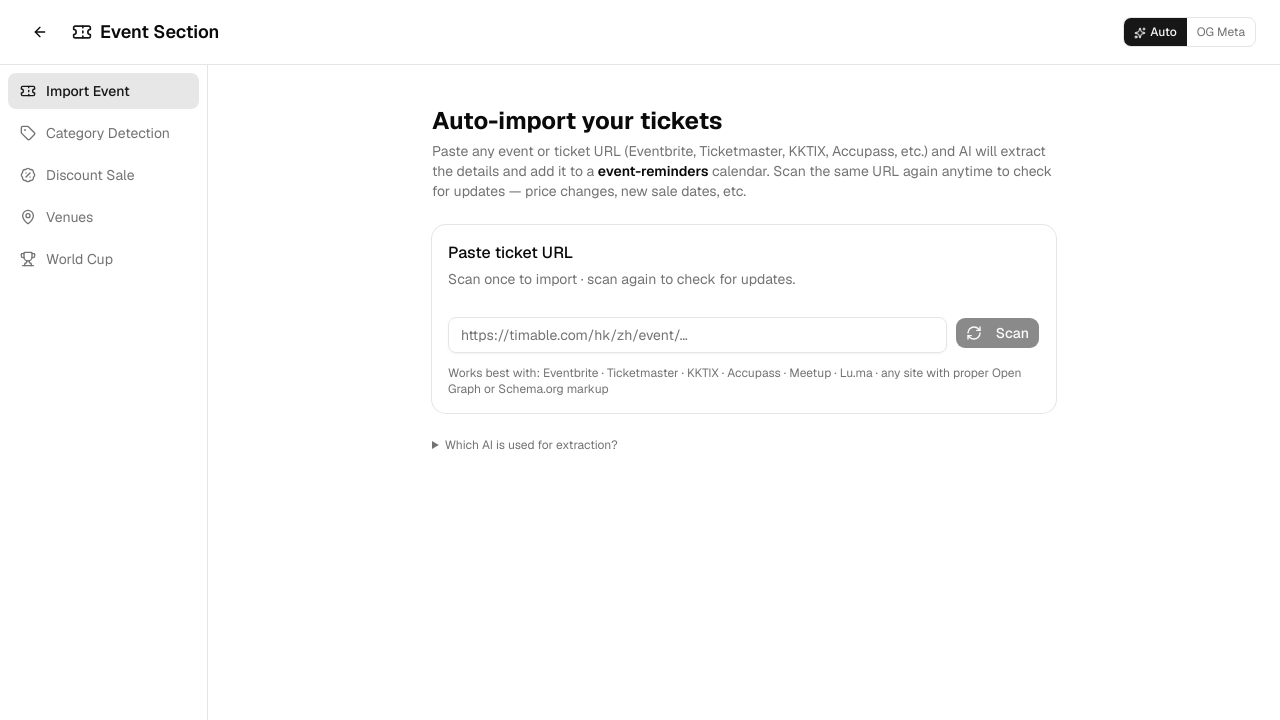
it: TicketSection — venue seat-map hint › shows a seat map badge for a venue that matches the built-in registry (Kai Tak Stadium)
The width and height of the screenshot is (1280, 720).
Type "https://example.com/event/1" into the field with placeholder "https://timable.com/hk/zh/event/…" at (697,335), box x1=448 y1=317 x2=947 y2=353
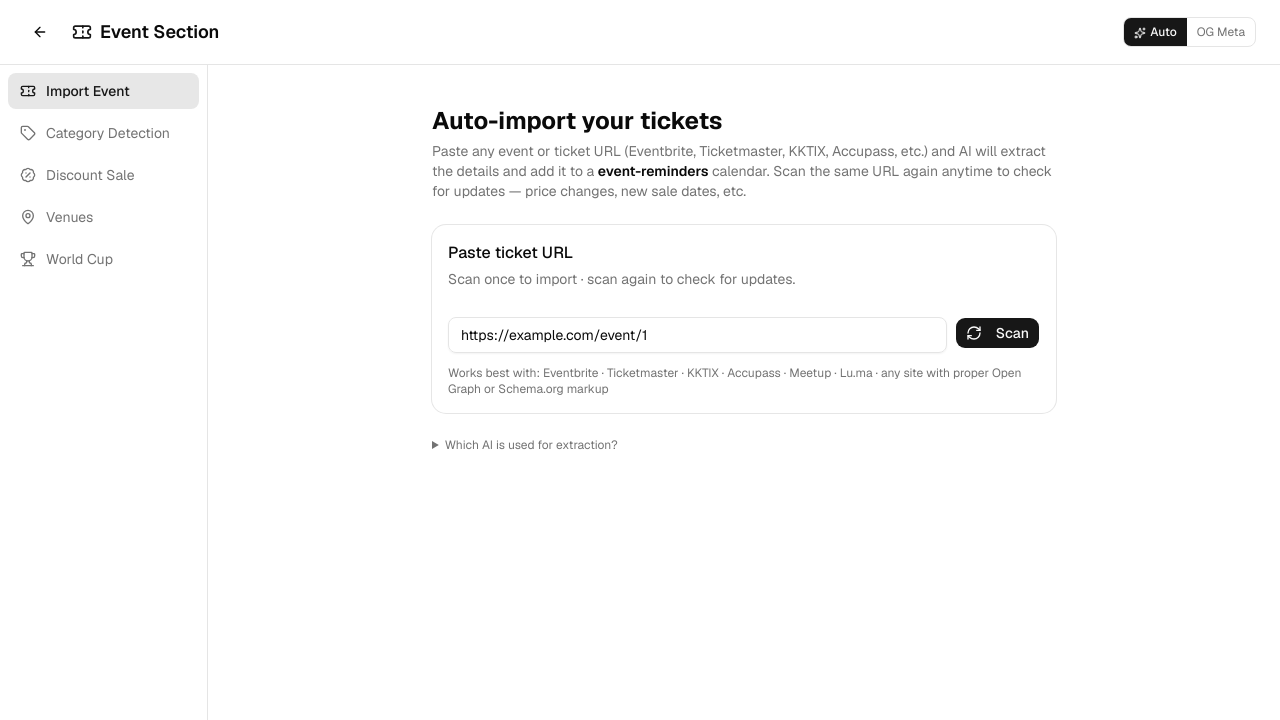
Click the button "Scan" at (997,333), box x1=955 y1=317 x2=1040 y2=349
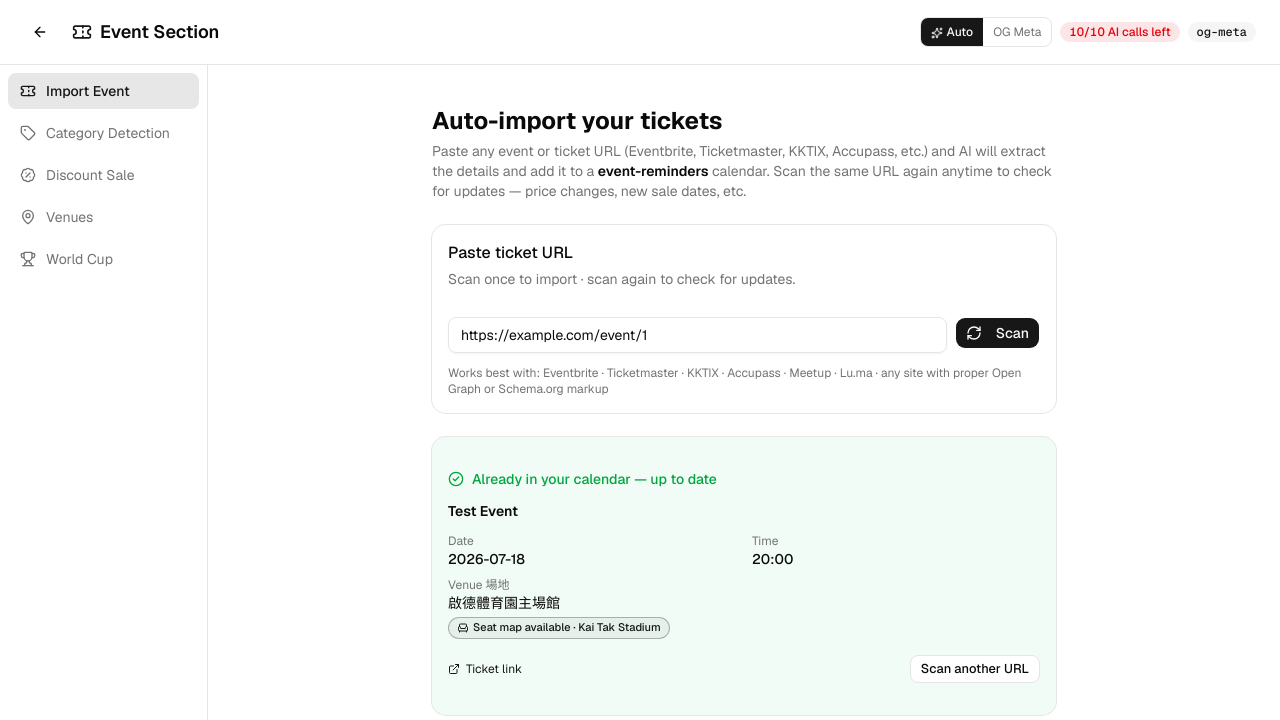
Check: the text "Already in your calendar — up to date" is shown, box x1=448 y1=470 x2=717 y2=488
Check: the button "Seat map available · Kai Tak Stadium" is shown, box x1=448 y1=617 x2=670 y2=639
